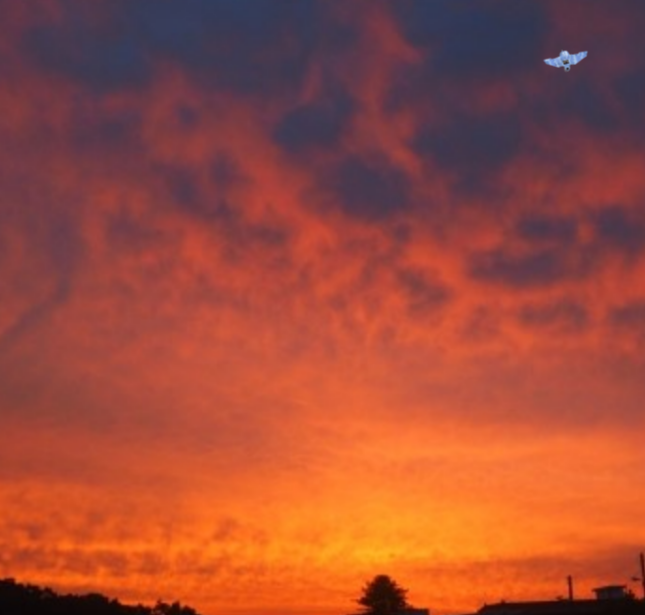military drone: (543, 49, 588, 71)
